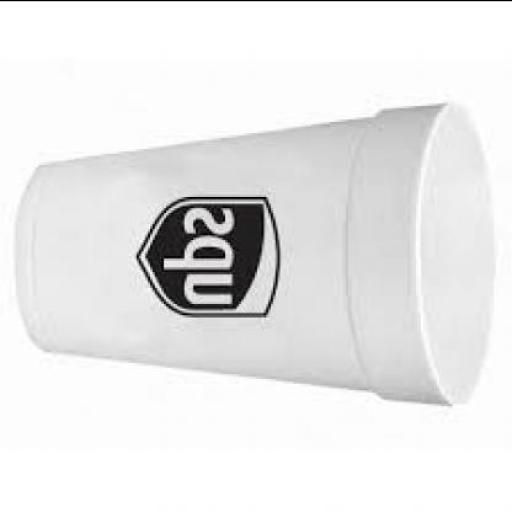paper: (18, 104, 501, 410)
